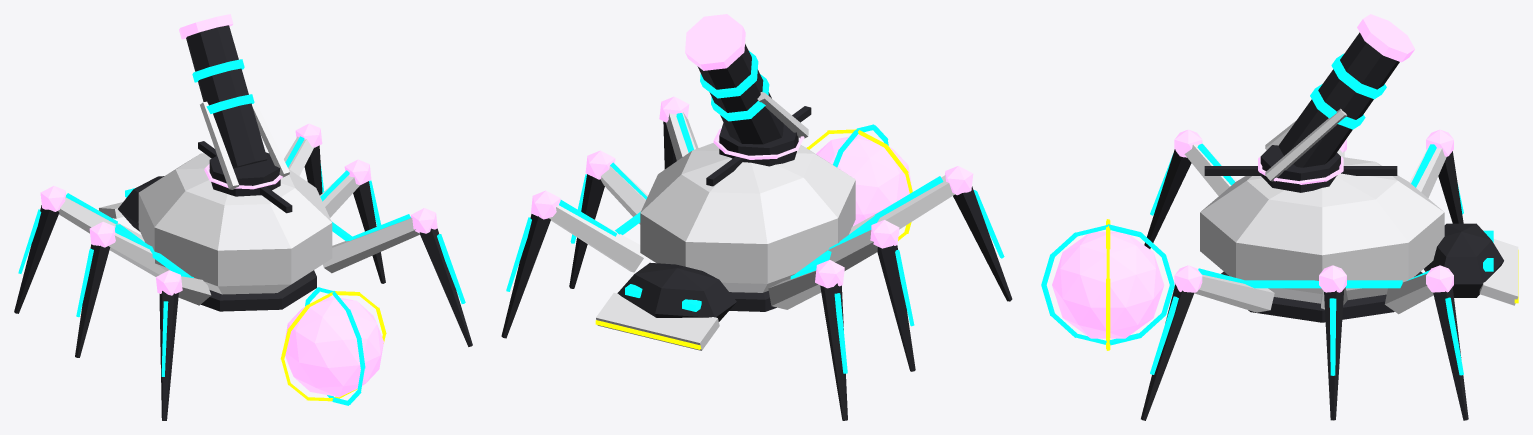
File: MortarScarab.fbx
3 renders of one model, left to right at view 1: azimuth 30°, elevation 25°; view 2: azimuth 150°, elevation 25°; view 3: azimuth 270°, elevation 25°, orthographic. The views are drawn at different scales.
Visible parts, largest first — view 1: Scarab_Shell, Scarab_PlasmaShell, Scarab_MortarTube, Scarab_LegL2_Upper, Scarab_Belly, Scarab_MortarBase, Scarab_LegL2_Lower, Scarab_LegR2_Lower, Scarab_LegR1_Lower, Scarab_LegR0_Lower, Scarab_LegR1_Upper, Scarab_ShellRingB (+20 smaller); view 2: Scarab_Shell, Scarab_Head, Scarab_PlasmaShell, Scarab_MortarTube, Scarab_Scoop, Scarab_Muzzle, Scarab_LegL0_Upper, Scarab_LegR1_Lower, Scarab_LegR2_Lower, Scarab_LegL0_Lower, Scarab_MortarBase, Scarab_LegR0_Lower (+22 smaller); view 3: Scarab_Shell, Scarab_PlasmaShell, Scarab_MortarTube, Scarab_Head, Scarab_ShellRingA, Scarab_Belly, Scarab_MortarBase, Scarab_LegL2_Upper, Scarab_Muzzle, Scarab_Scoop, Scarab_LegL2_Lower, Scarab_LegR2_Lower (+21 smaller).
Boxes of the visible parts, box(x1,y1,x2,y2) form: Scarab_Shell: box(138, 153, 332, 294); Scarab_PlasmaShell: box(284, 296, 383, 397); Scarab_MortarTube: box(186, 25, 267, 168); Scarab_LegL2_Upper: box(323, 217, 419, 273); Scarab_Belly: box(201, 270, 316, 311); Scarab_MortarBase: box(209, 152, 280, 196); Scarab_LegL2_Lower: box(419, 228, 472, 346); Scarab_LegR2_Lower: box(159, 291, 178, 420); Scarab_LegR1_Lower: box(75, 244, 110, 357); Scarab_LegR0_Lower: box(14, 205, 59, 313); Scarab_LegR1_Upper: box(109, 233, 166, 276); Scarab_ShellRingB: box(280, 291, 386, 401); Scarab_Shell: box(640, 141, 855, 292); Scarab_Head: box(617, 262, 736, 321); Scarab_PlasmaShell: box(816, 134, 912, 226); Scarab_MortarTube: box(697, 44, 783, 144); Scarab_Scoop: box(596, 293, 719, 350); Scarab_Muzzle: box(685, 14, 745, 70); Scarab_LegL0_Upper: box(549, 205, 644, 272); Scarab_LegR1_Lower: box(877, 245, 915, 371); Scarab_LegR2_Lower: box(953, 186, 1012, 301); Scarab_LegL0_Lower: box(501, 214, 550, 338); Scarab_MortarBase: box(719, 123, 798, 166); Scarab_LegR0_Lower: box(820, 283, 847, 420); Scarab_Shell: box(1200, 157, 1444, 303); Scarab_PlasmaShell: box(1052, 231, 1164, 338); Scarab_MortarTube: box(1278, 32, 1399, 167); Scarab_Head: box(1424, 223, 1503, 297); Scarab_ShellRingA: box(1041, 224, 1174, 345); Scarab_Belly: box(1221, 271, 1422, 322); Scarab_MortarBase: box(1260, 145, 1340, 192); Scarab_LegL2_Upper: box(1194, 274, 1274, 312); Scarab_Muzzle: box(1357, 14, 1414, 62); Scarab_Scoop: box(1479, 239, 1518, 305); Scarab_LegL2_Lower: box(1141, 284, 1194, 420); Scarab_LegR2_Lower: box(1144, 149, 1191, 248).
Bounding box in the file's own units: 0.7302 × 0.6738 × 0.8921.
